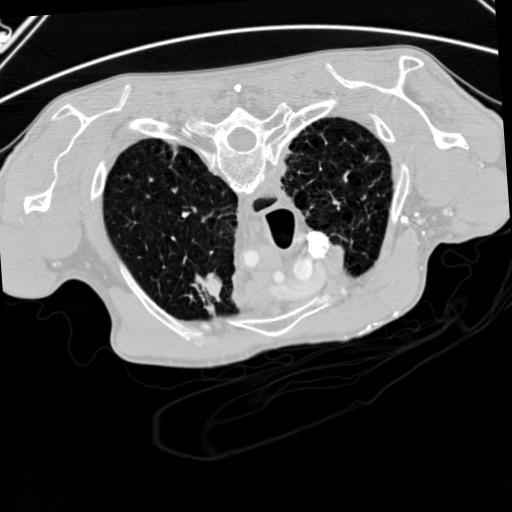nodule: (191, 275, 227, 311)
